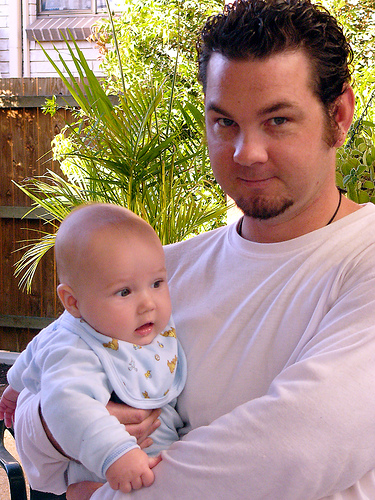without_mask: (204, 50, 357, 227), (55, 222, 178, 351)
